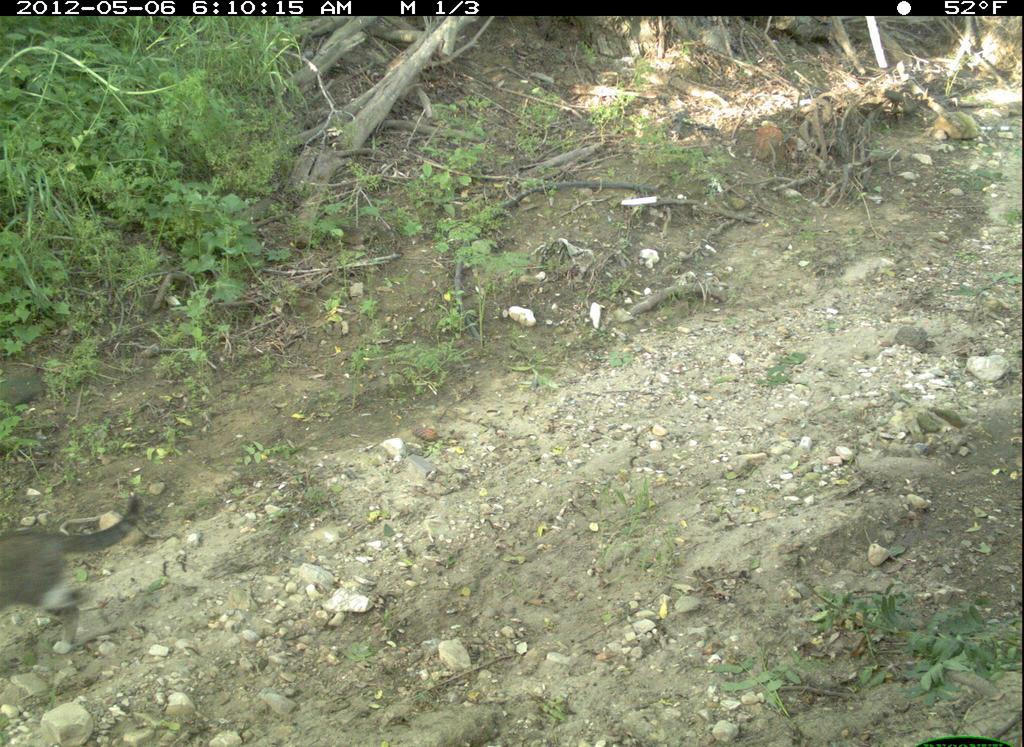cat: (2, 491, 145, 653)
